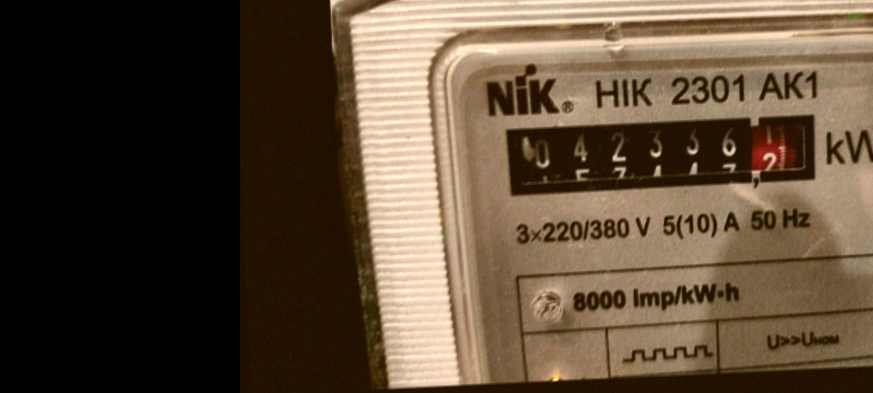0: (531, 137, 551, 171)
1: (760, 121, 773, 148)
2: (607, 130, 629, 165), (759, 152, 777, 174)
3: (643, 127, 663, 160), (682, 125, 701, 158)
4: (571, 132, 589, 164)
6: (717, 126, 739, 161)
screen: (492, 102, 831, 208)
